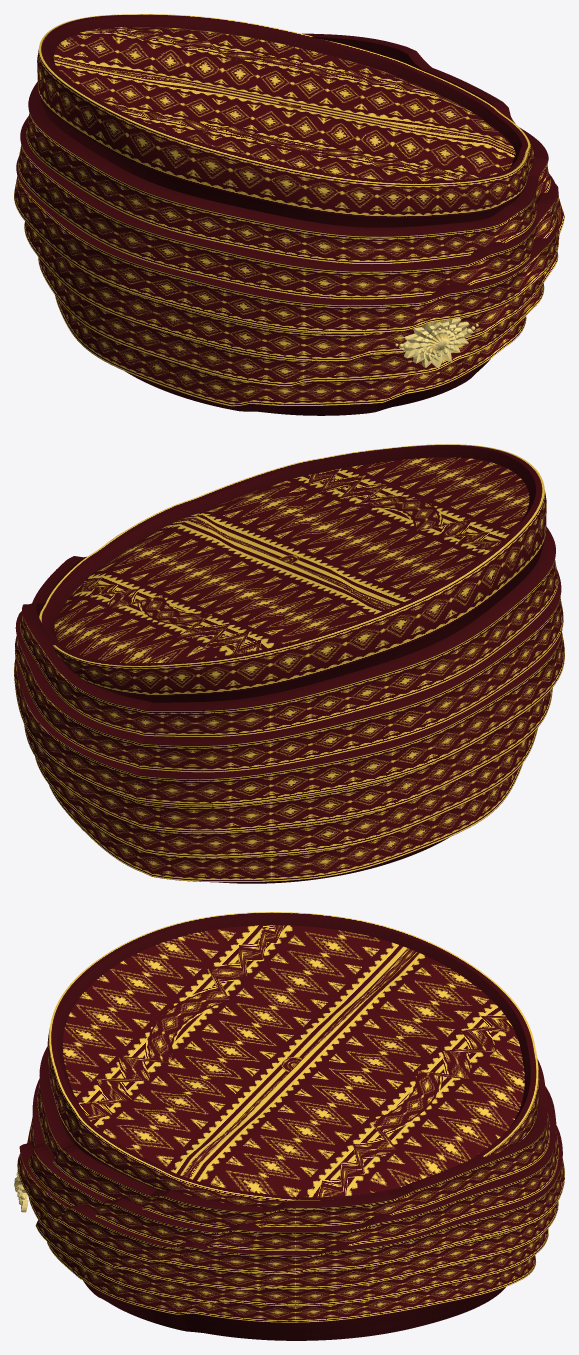
File: 01_Sumatera_Deta_Saluak.fbx
3 renders of one model, top to bottom at view 1: azimuth 30°, elevation 25°; view 2: azimuth 150°, elevation 25°; view 3: azimuth 270°, elevation 25°, orthographic. The views are drawn at different scales.
Visible parts, largest first — view 1: Deta_Saluak; view 2: Deta_Saluak; view 3: Deta_Saluak.
Part boxes in pixels (x1,y1,x2,y2): Deta_Saluak: (14,14,564,415); Deta_Saluak: (14,444,564,883); Deta_Saluak: (14,912,564,1340).
Size of the model in its own units: 2.29 by 1.37 by 2.58.
